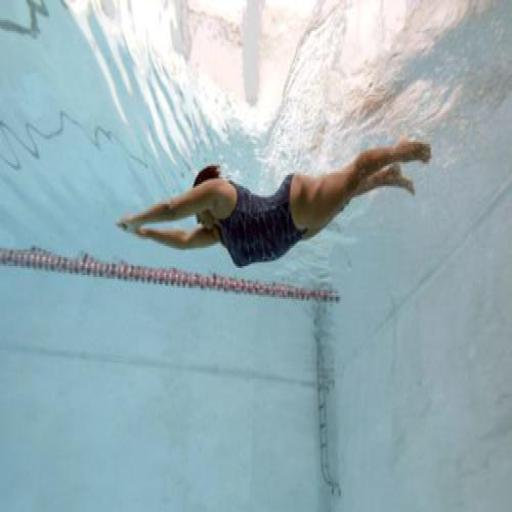swimming: (114, 131, 433, 272)
